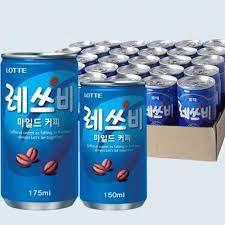letsbe: (1, 52, 79, 210), (80, 83, 148, 210), (176, 76, 218, 128), (144, 76, 179, 127)
